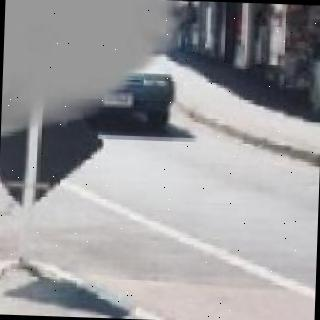smoke: (0, 0, 193, 152)
